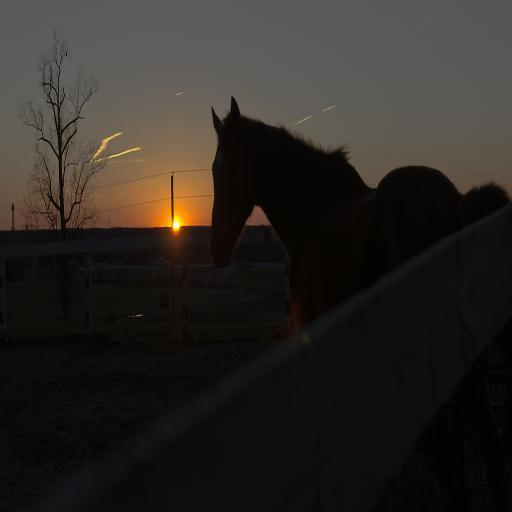horse: (204, 92, 512, 333)
